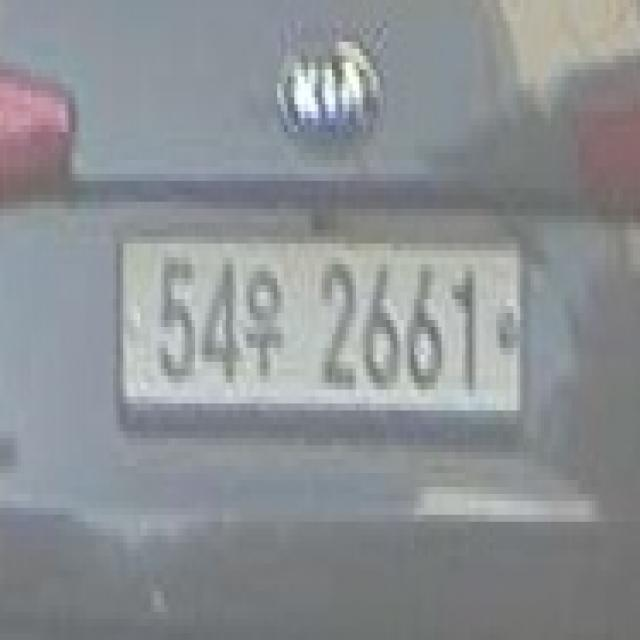1: (448, 250, 483, 398)
2: (317, 246, 360, 394)
4: (200, 250, 243, 384)
5: (159, 251, 198, 384)
6: (361, 246, 402, 393), (405, 247, 444, 396)
license_plate: (114, 215, 528, 438)
u: (245, 250, 287, 384)
